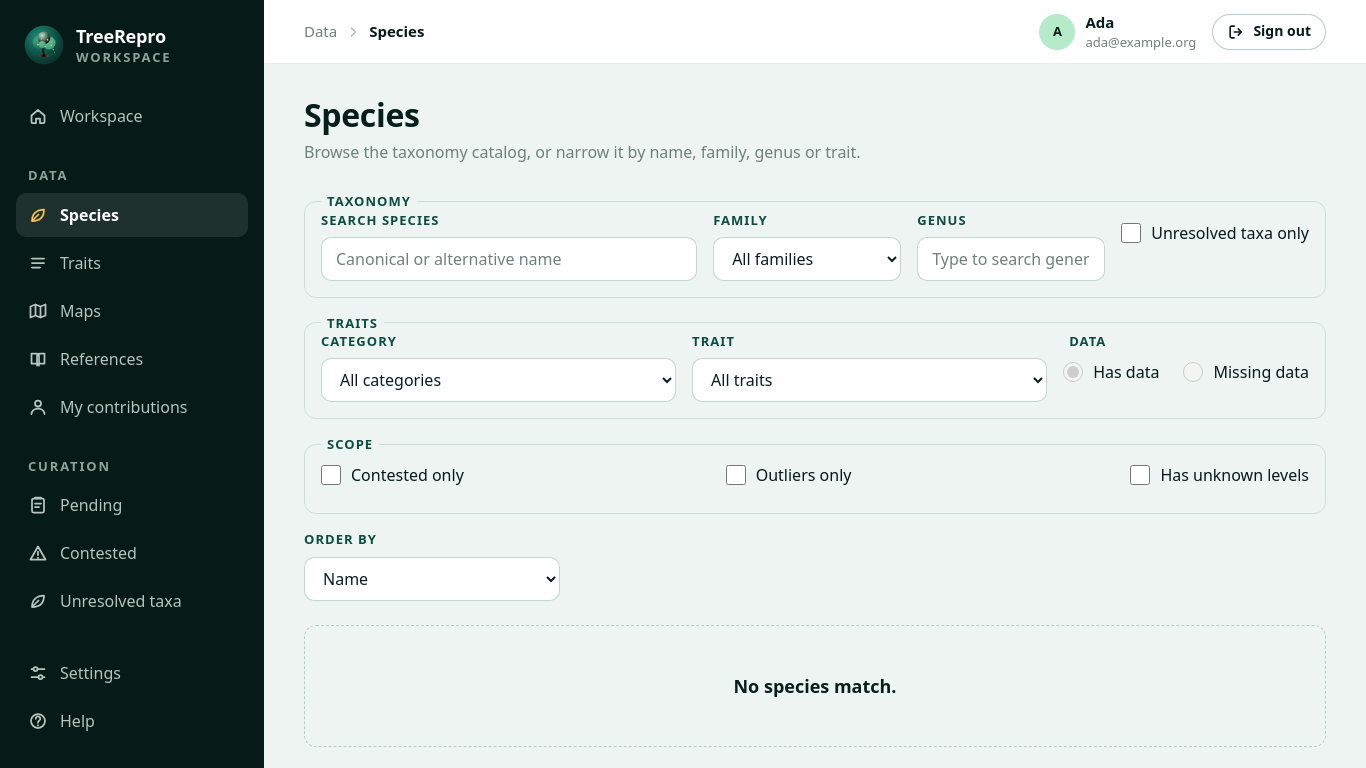
it: RFC-13 R2, RFC-60 R6 SpeciesSearchPage › RFC-60 R6 switches between Species and Unresolved taxa through the navigation while already on the page
This screenshot has width=1366, height=768.
Check: the heading "Species" is shown, box [304,93,420,136]
Check: the checkbox labelled "Unresolved taxa only" is not checked, box [1121,223,1141,243]
Click the link "Unresolved taxa" at (105, 601), box [28,590,182,612]
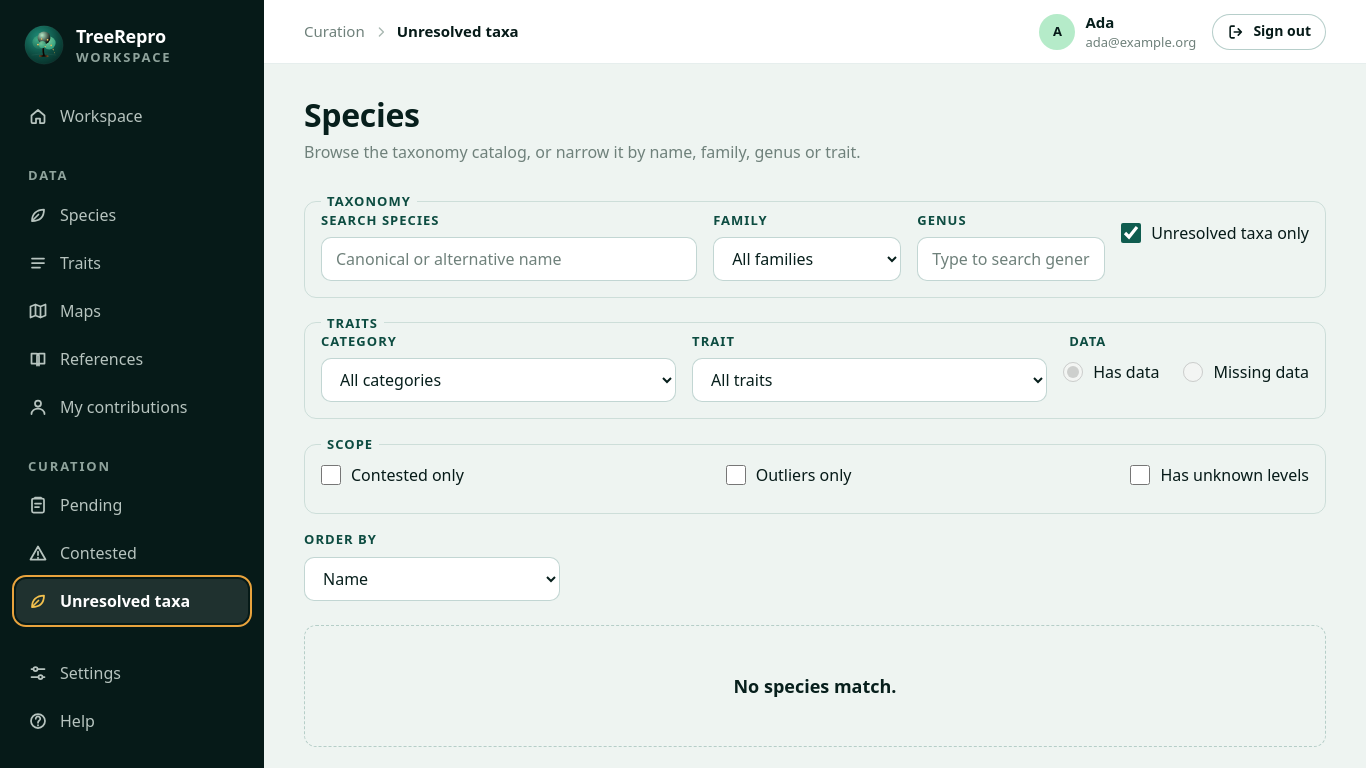
Check: the checkbox labelled "Unresolved taxa only" is checked, box [1121,223,1141,243]
Click the link "Species" at (72, 215), box [28,204,116,226]
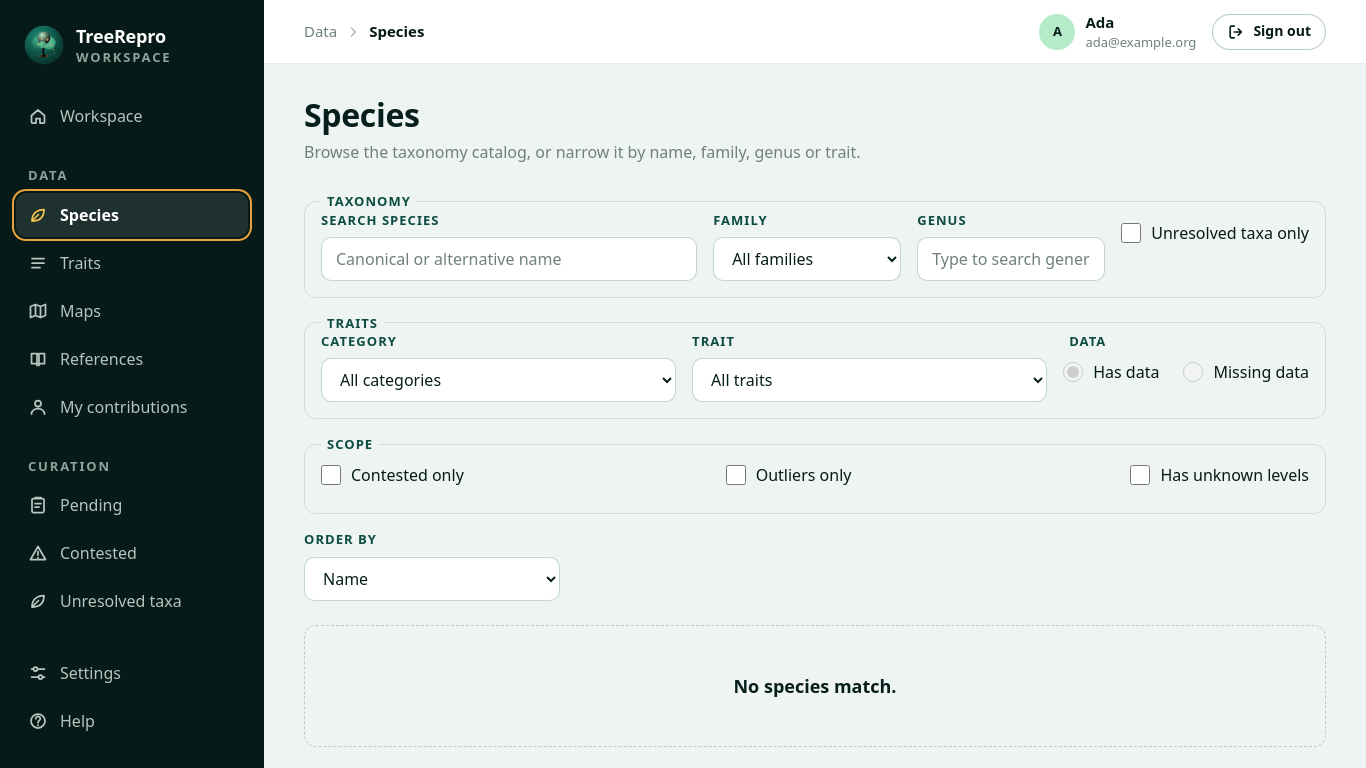
Check: the checkbox labelled "Unresolved taxa only" is not checked, box [1121,223,1141,243]
